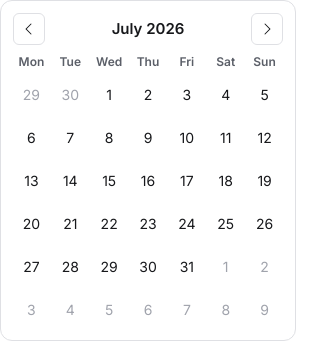
Test: CalendarGrid drill-up subviews › selects a year with Enter and drills back down to its month grid
Click the button "July 2026": [148, 29] box [112,18,184,40]
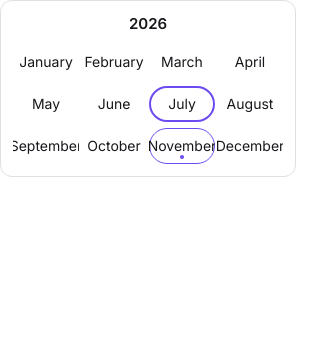
Click the button "2026": [148, 24] box [129,13,167,36]
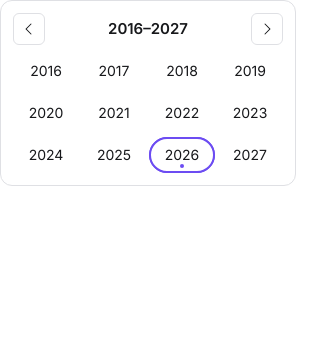
Press ArrowRight in the table named "Choose year", box [13,53,283,173]
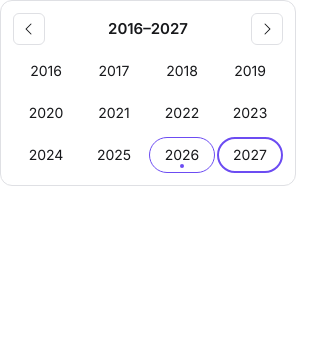
Press Enter in the table named "Choose year", box [13,53,283,173]
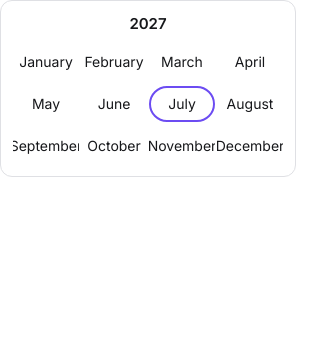
Result: the table named "Choose month, 2027" is shown at [13,44,283,164]
